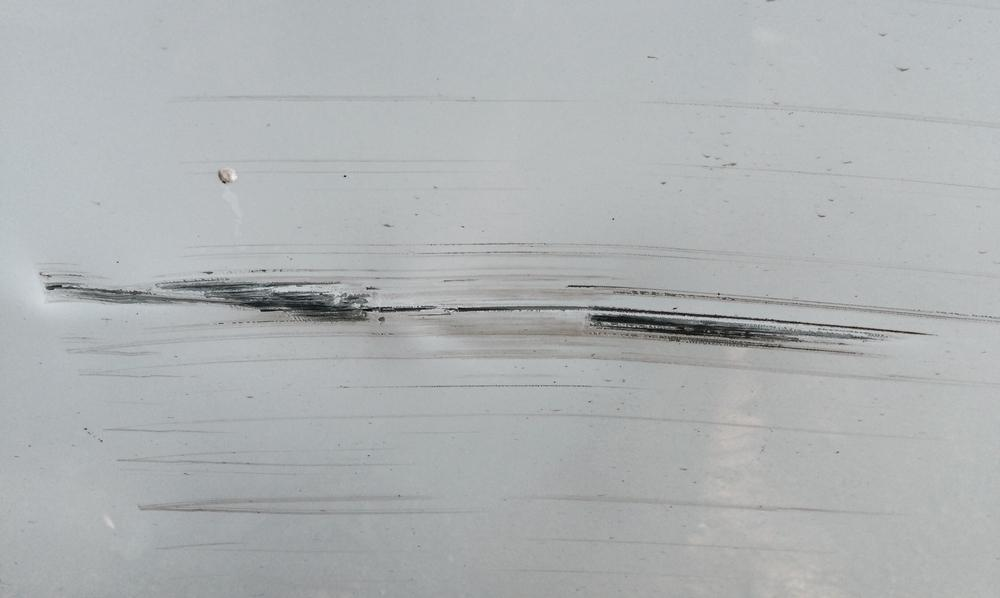scratch: (34, 84, 1000, 598)
